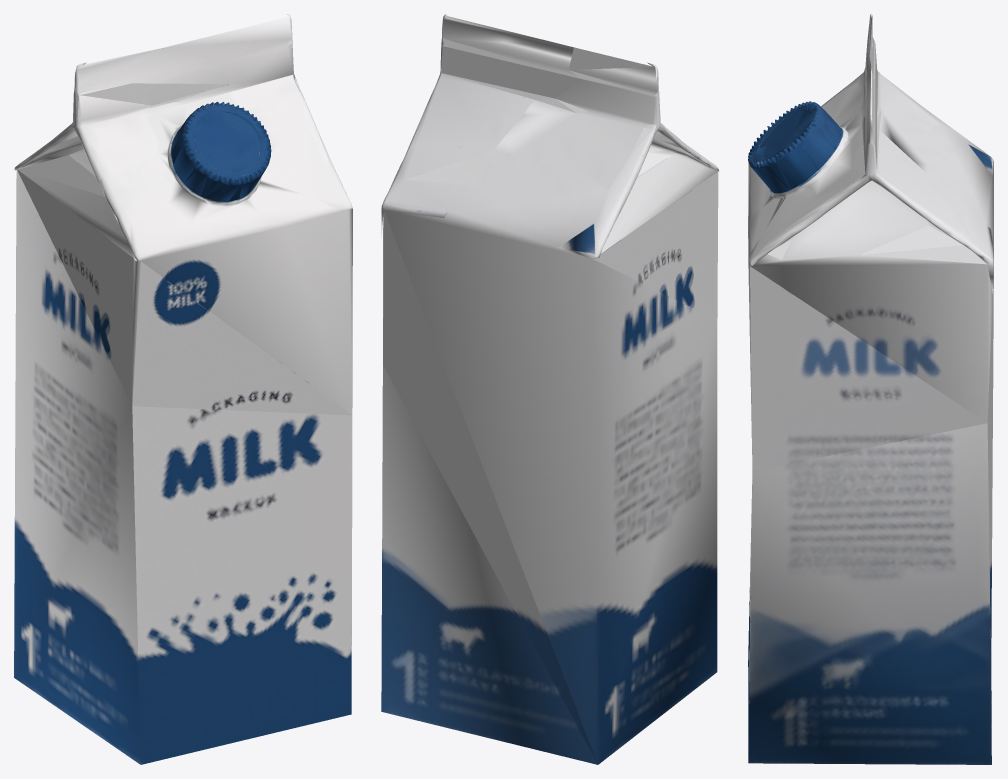
File: Meshy_AI_Blue_Milk_Carton_Mock_0903071825_texture.fbx
The picture shows the model from 3 angles, left to right: view 1: azimuth 30°, elevation 25°; view 2: azimuth 150°, elevation 25°; view 3: azimuth 270°, elevation 25°; orthographic projection.
Parts seen in each view (by area): view 1: mesh_node; view 2: mesh_node; view 3: mesh_node.
Part boxes in pixels (x1=…): mesh_node: x1=14, y1=14, x2=352, y2=764; mesh_node: x1=381, y1=14, x2=719, y2=764; mesh_node: x1=748, y1=14, x2=993, y2=764.
Bounding box in the file's own units: 66.04 × 190 × 65.18.
1 material, 1 textured.
